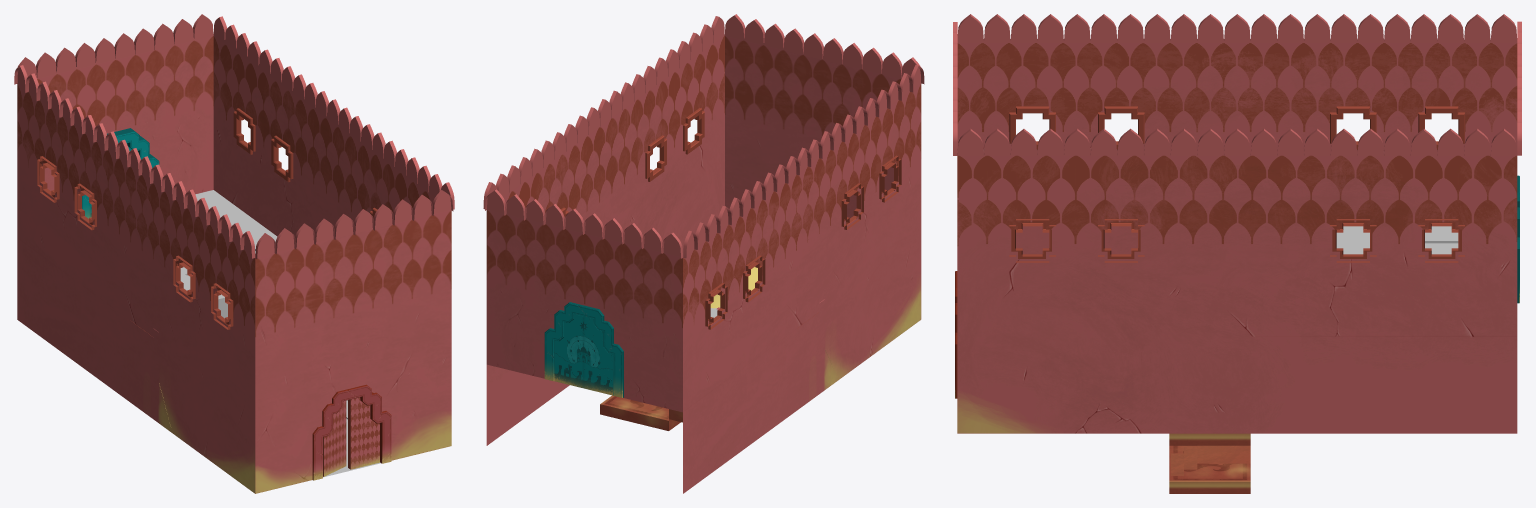
File: FBX SCALE TUTORIAL.fbx
3 views of the same model, side by side, from view 1: azimuth 30°, elevation 25°; view 2: azimuth 150°, elevation 25°; view 3: azimuth 270°, elevation 25° (orthographic). The views are drawn at different scales.
Visible parts, largest first — view 1: polySurface164, polySurface209, polySurface208; view 2: polySurface164, polySurface207, polySurface210, polySurface204; view 3: polySurface164, polySurface204, polySurface206.
Part boxes in pixels (bbox=[...]): polySurface164: bbox=[14, 14, 454, 493]; polySurface209: bbox=[348, 397, 379, 469]; polySurface208: bbox=[323, 400, 346, 476]; polySurface164: bbox=[483, 14, 924, 493]; polySurface207: bbox=[583, 316, 613, 395]; polySurface210: bbox=[554, 314, 583, 388]; polySurface204: bbox=[600, 395, 680, 430]; polySurface164: bbox=[953, 14, 1521, 433]; polySurface204: bbox=[1169, 445, 1250, 493]; polySurface206: bbox=[1169, 433, 1250, 445].
Size of the model in its own units: 1034 by 1512 by 2133.
